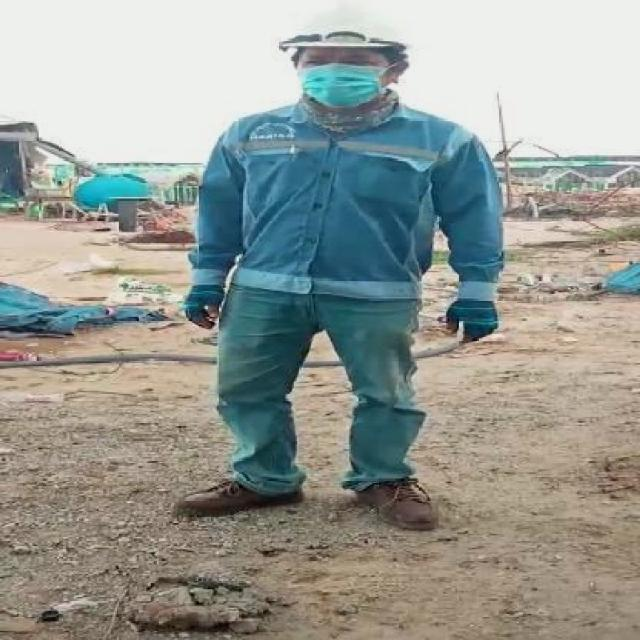face_mask: (294, 49, 395, 108)
hand_glove: (436, 297, 506, 349), (182, 283, 230, 331)
person: (180, 17, 502, 529)
shoes: (171, 462, 311, 520), (342, 470, 440, 535)
